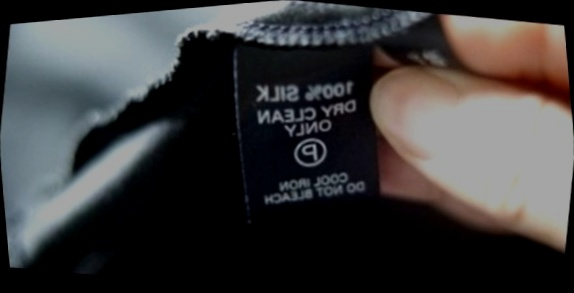dry_clean_any_solvent_except_trichloroethylene: (285, 129, 333, 175)
